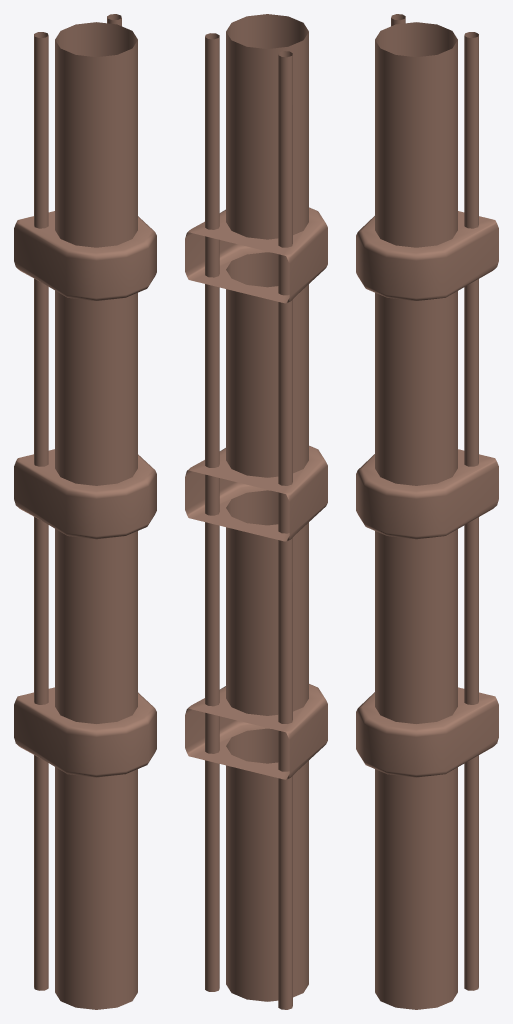
Rendered from rohr.fbx.
3 views of the same model, side by side, from view 1: azimuth 30°, elevation 25°; view 2: azimuth 150°, elevation 25°; view 3: azimuth 330°, elevation 25° (orthographic).
Parts seen in each view (by area): view 1: rohr; view 2: rohr; view 3: rohr.
Part boxes in pixels (box(x1,y1,x2,y2)): rohr: box(14, 14, 156, 1009); rohr: box(185, 14, 327, 1009); rohr: box(356, 14, 498, 1009).
Size of the model in its own units: 0.4591 by 4 by 0.4591.
